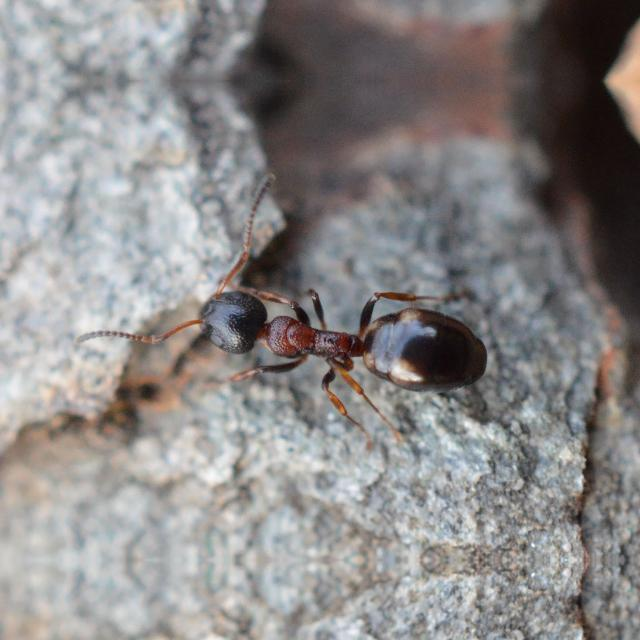Dolichoderus: (146, 252, 504, 424)
